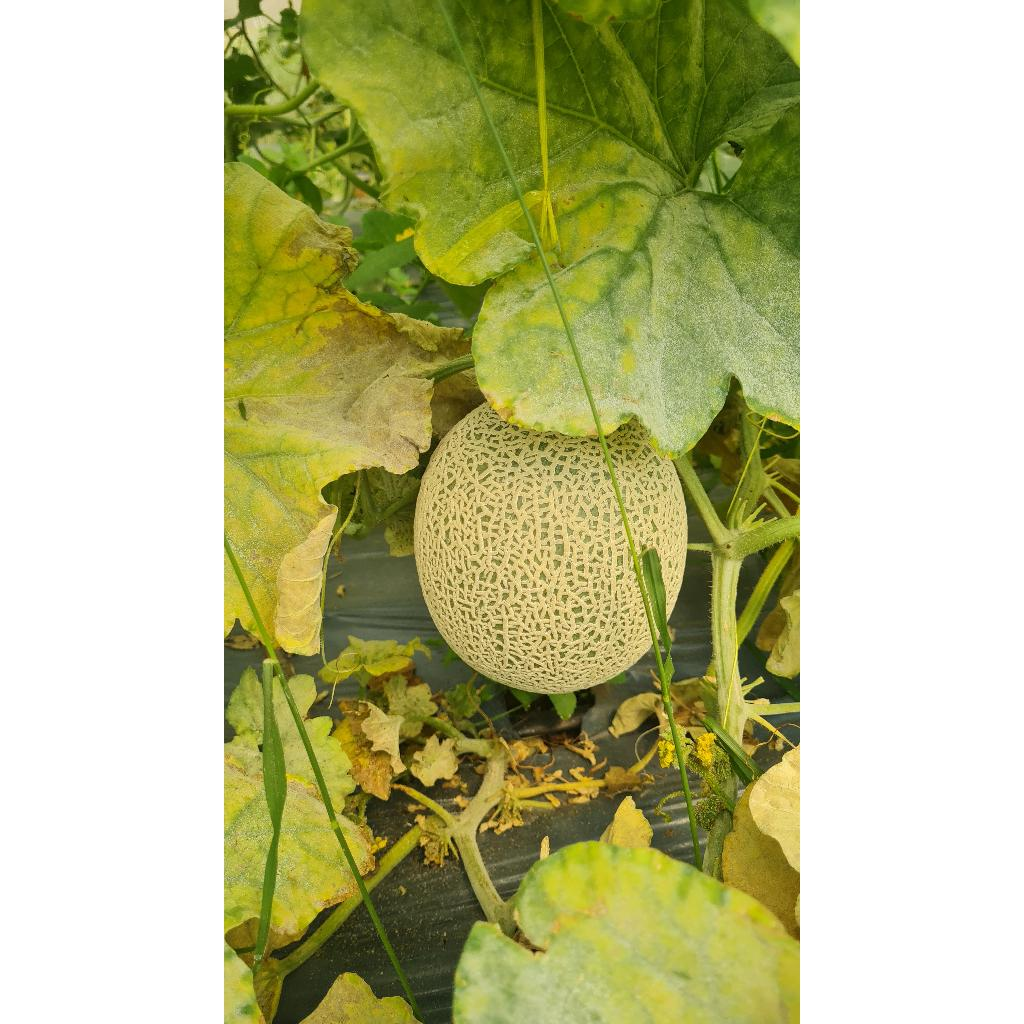melon: (414, 404, 652, 694), (608, 422, 688, 612)
